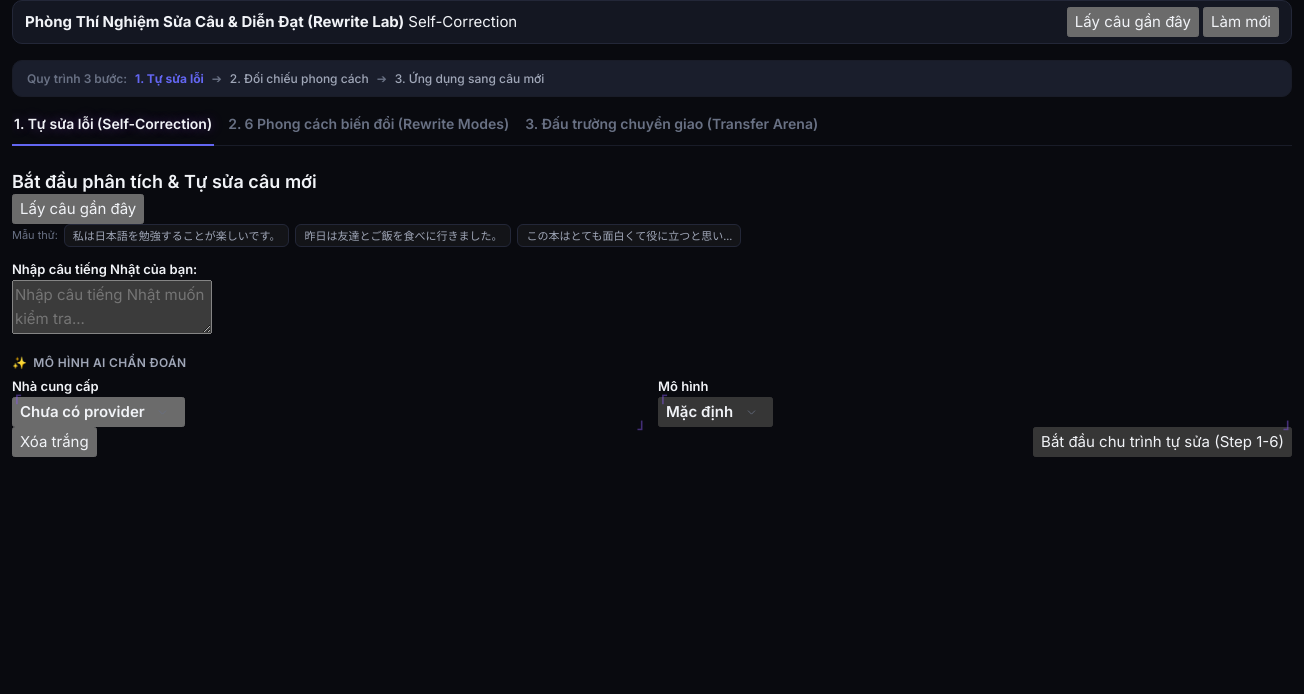
Scenario: RewriteLabPage (Phase 19) › switches to rewrite modes tab and renders 6 modes
Click the tab "2. 6 Phong cách biến đổi (Rewrite Modes)" at [369, 125], box [226, 105, 511, 146]
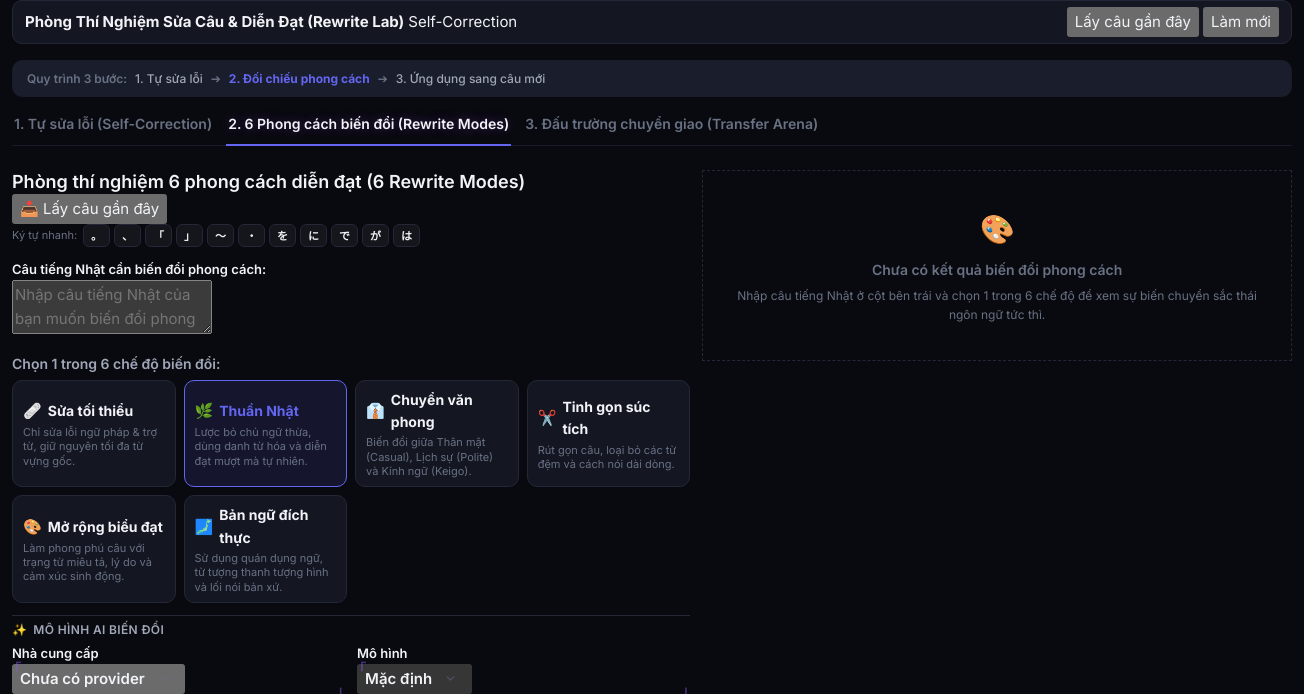
Check: the text "Phòng thí nghiệm 6 phong cách diễn đạt (6 Rewrite Modes)" is shown, box [12, 171, 525, 192]
Check: the text "Sửa tối thiểu" is shown, box [48, 400, 133, 422]
Check: the text "Thuần Nhật" is shown, box [219, 400, 299, 422]
